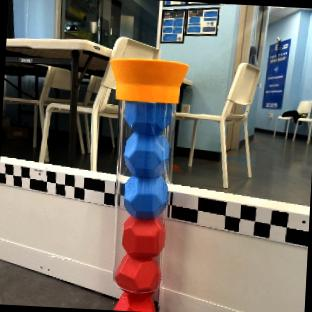Loader: (109, 54, 188, 312)
V5_BLUE: (123, 132, 169, 177), (122, 176, 167, 216), (124, 100, 170, 134)
V5_RED: (122, 213, 165, 256), (114, 253, 160, 292), (114, 291, 154, 312)
